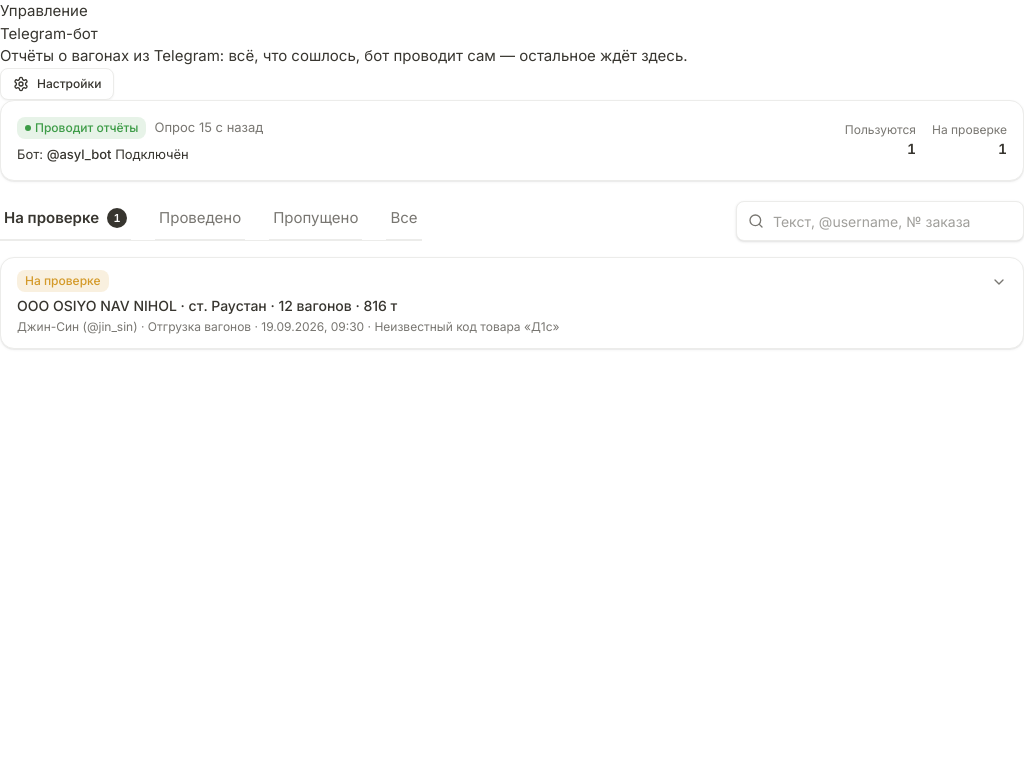
Test case: Telegram-бот: журнал › settings tell which recipients have started the bot
Click the button "Настройки".
click(57, 84)  # box [0,68,114,100]
(page scrolled)
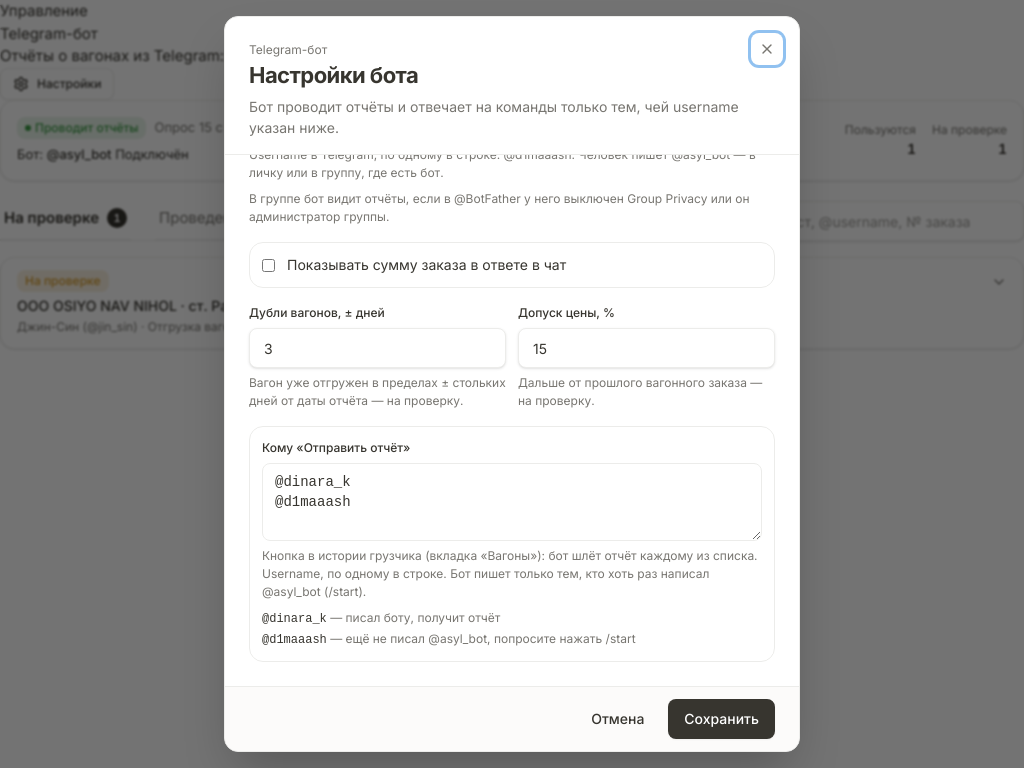
Now the list named "Получатели" shows "@dinara_k — писал боту, получит отчёт", box [262,610,636,647]
Now the list named "Получатели" shows "@d1maaash — ещё не писал @asyl_bot, попросите нажать /start", box [262,610,636,647]
